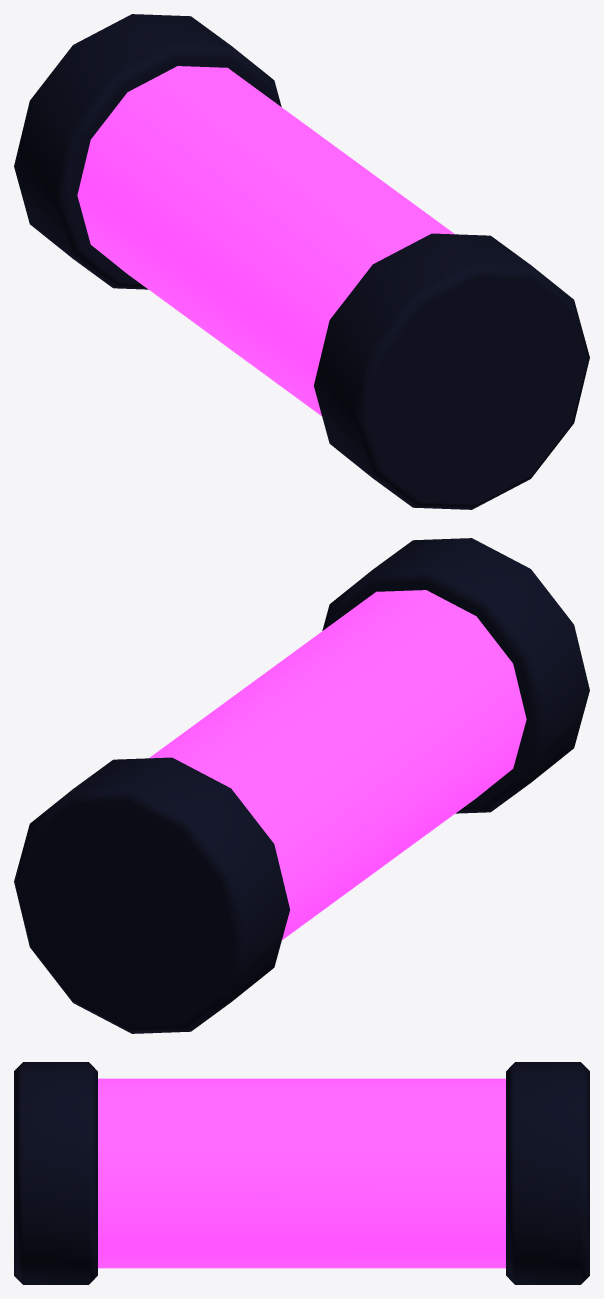
File: NT_EnergyBolt_Magenta.fbx
3 renders of one model, top to bottom at view 1: azimuth 30°, elevation 25°; view 2: azimuth 150°, elevation 25°; view 3: azimuth 270°, elevation 25°, orthographic. The views are drawn at different scales.
Visible parts, largest first — view 1: NT_EnergyBolt_Magenta__ProjectileMesh; view 2: NT_EnergyBolt_Magenta__ProjectileMesh; view 3: NT_EnergyBolt_Magenta__ProjectileMesh.
Part boxes in pixels (x1,y1,x2,y2): NT_EnergyBolt_Magenta__ProjectileMesh: (14, 14, 589, 509); NT_EnergyBolt_Magenta__ProjectileMesh: (14, 538, 589, 1033); NT_EnergyBolt_Magenta__ProjectileMesh: (14, 1062, 589, 1284).
Size of the model in its own units: 0.2 by 0.2 by 0.515.
